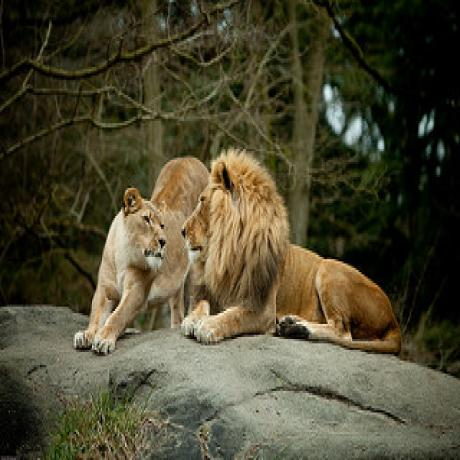Lion: (182, 147, 400, 353), (73, 155, 183, 353)
